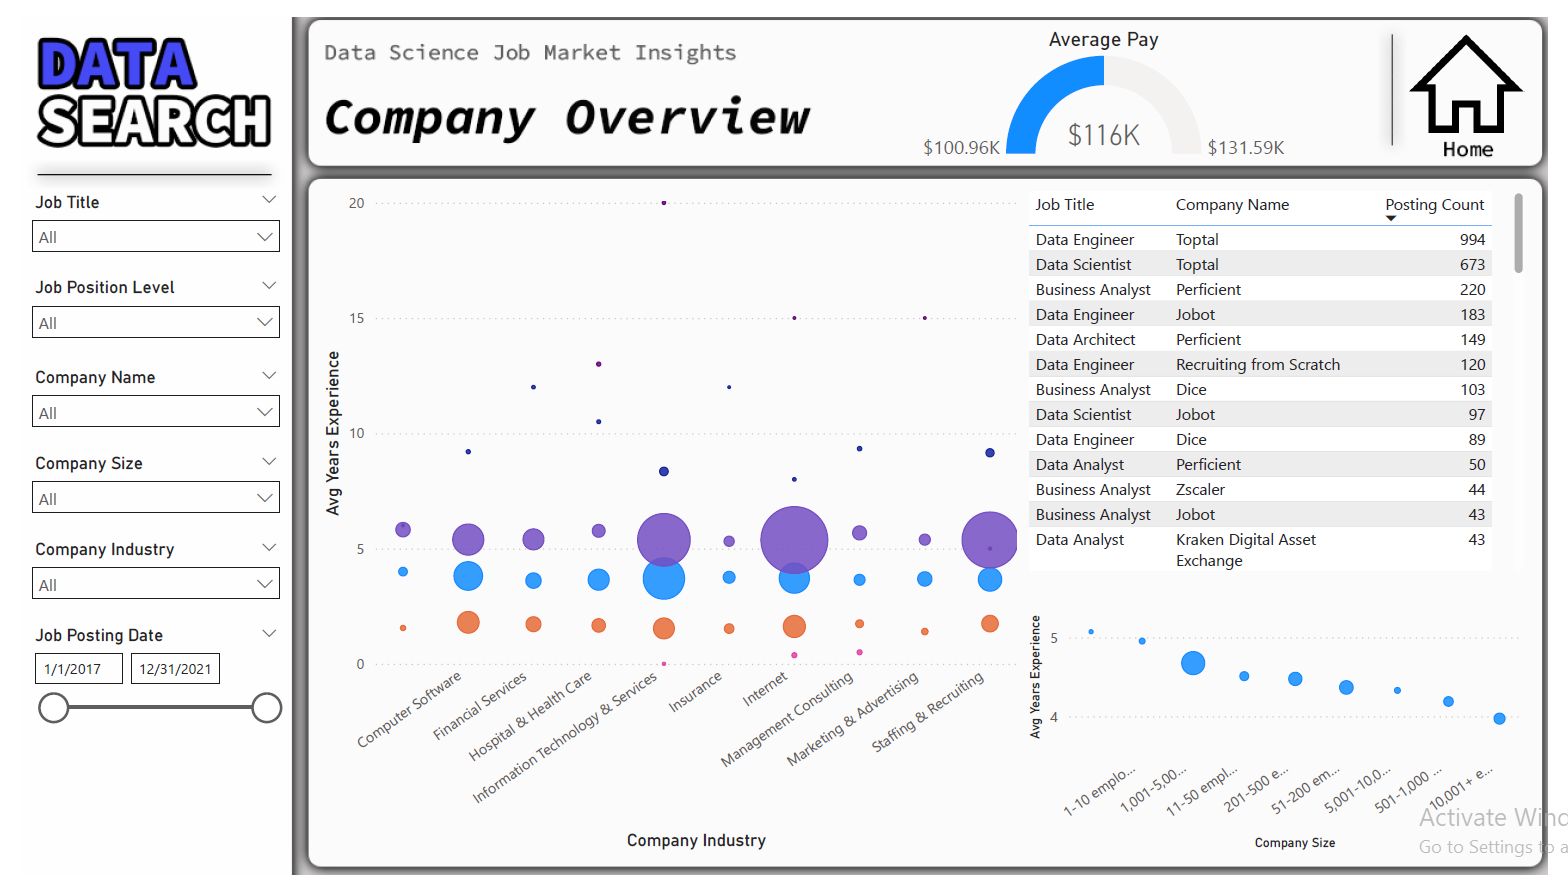

The page's visual inventory and layout, read from the dashboard file:
{"tool":"powerbi","page":{"name":"Company","canvas":[1280,720],"ordinal":3},"visuals":[{"type":"slicer","fields":{"Values":["Job Postings.Job Posting Date"]},"box":[0,503.8,227.6,215.9],"z":0},{"type":"slicer","fields":{"Values":["Job Postings.Company Industry"]},"box":[0,431.9,227.6,72],"z":1000},{"type":"slicer","fields":{"Values":["Job Postings.Company Size"]},"box":[0,359.9,227.6,72],"z":2000},{"type":"slicer","fields":{"Values":["Job Postings.Company Name"]},"box":[0,287.9,227.6,72],"z":3000},{"type":"slicer","fields":{"Values":["Job Postings.Job Position Level"]},"box":[0,213,227.6,72],"z":4000},{"type":"slicer","fields":{"Values":["Job Postings.Job Title"]},"box":[0,141,227.6,72],"z":5000},{"type":"scatterChart","fields":{"Y":["Avg(Job Postings.Years of Experience)"],"X":["Job Postings.Company Industry"],"Size":["_Measures.Posting Count"],"Series":["Job Postings.Job Position Level"]},"box":[249,141,591.4,561.2],"z":6000},{"type":"tableEx","fields":{"Values":["Job Postings.Job Title","Job Postings.Company Name","_Measures.Posting Count"]},"box":[840.4,141,425,326.8],"z":7000},{"type":"gauge","title":"Average Pay","fields":{"MinValue":["Avg(Job Postings.Minimum Pay)"],"MaxValue":["Avg(Job Postings.Maximum Pay)"],"Y":["Avg(Job Postings.Average Pay)"]},"box":[699.3,7.8,417.3,115.7],"z":8000},{"type":"scatterChart","fields":{"Y":["Avg(Job Postings.Years of Experience)"],"X":["Job Postings.Company Size"],"Size":["_Measures.Posting Count"]},"box":[840.4,471.7,422.1,230.5],"z":9000},{"type":"image","box":[1159.4,0,106,111.9],"z":10000}]}

Visuals, with their boxes on the page's 1280x720 design canvas (x1, y1, x2, y2). These are canvas units, not pixel positions in the 1568x890 screenshot, which may show the page scaled, cropped or inside an application window:
slicer - Job Postings.Job Posting Date: box=[0, 504, 228, 720]
slicer - Job Postings.Company Industry: box=[0, 432, 228, 504]
slicer - Job Postings.Company Size: box=[0, 360, 228, 432]
slicer - Job Postings.Company Name: box=[0, 288, 228, 360]
slicer - Job Postings.Job Position Level: box=[0, 213, 228, 285]
slicer - Job Postings.Job Title: box=[0, 141, 228, 213]
scatterChart - Avg(Job Postings.Years of Experience) x Job Postings.Company Industry: box=[249, 141, 840, 702]
tableEx - Job Postings.Job Title x Job Postings.Company Name: box=[840, 141, 1265, 468]
"Average Pay" gauge: box=[699, 8, 1117, 124]
scatterChart - Avg(Job Postings.Years of Experience) x Job Postings.Company Size: box=[840, 472, 1262, 702]
image: box=[1159, 0, 1265, 112]
